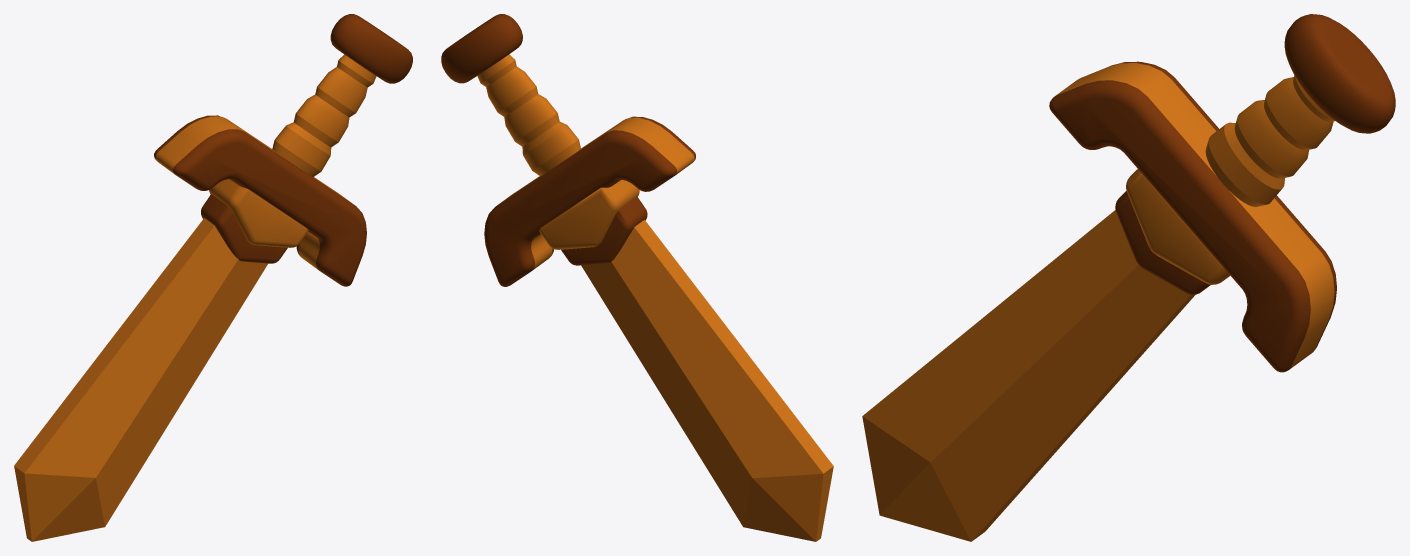
Rendered from sword.glb.
The picture shows the model from 3 angles, left to right: view 1: azimuth 30°, elevation 25°; view 2: azimuth 150°, elevation 25°; view 3: azimuth 330°, elevation 25°; orthographic projection. The views are drawn at different scales.
Parts seen in each view (by area): view 1: Plane.055; view 2: Plane.055; view 3: Plane.055.
Part boxes in pixels (x1=…): Plane.055: x1=14, y1=14, x2=412, y2=541; Plane.055: x1=441, y1=14, x2=833, y2=541; Plane.055: x1=862, y1=14, x2=1395, y2=541.
Size of the model in its own units: 1.77 by 1.95 by 0.2465.
